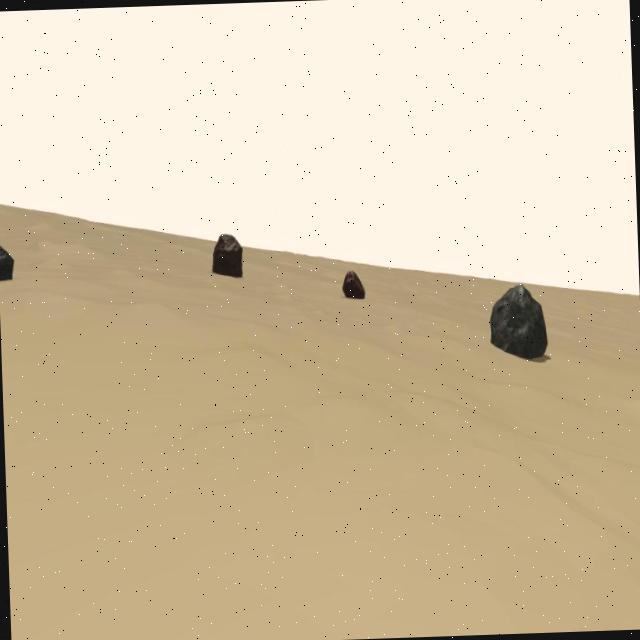rock: (488, 281, 548, 360), (210, 232, 243, 278), (340, 269, 364, 299), (0, 242, 14, 281)
